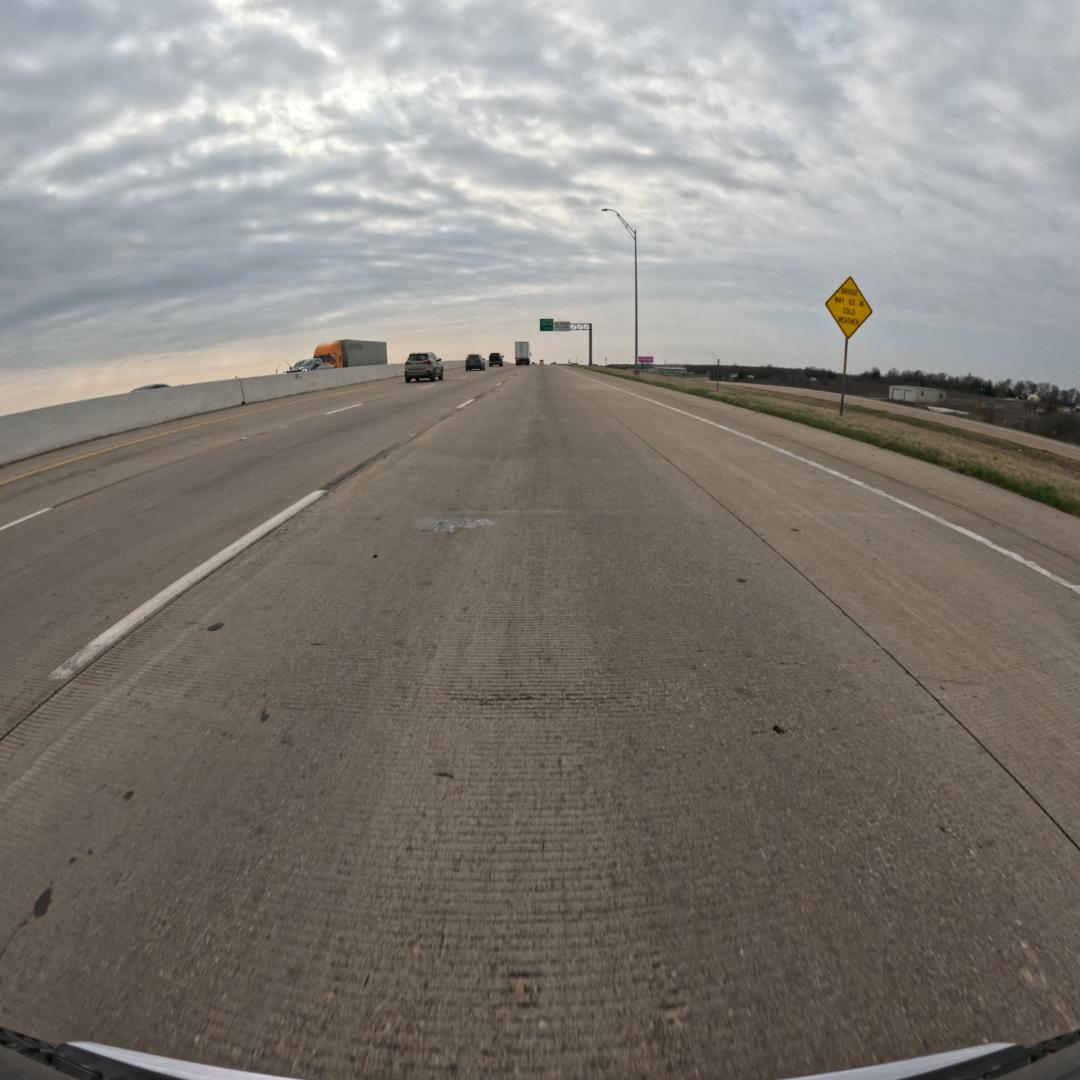lane0: (0, 370, 1080, 1077)
lane1: (0, 372, 508, 736)
